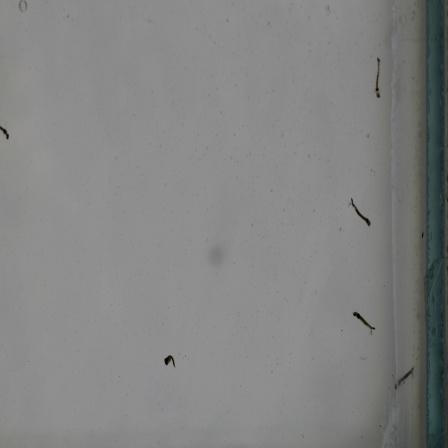Jentik-Nyamuk: (348, 193, 374, 229), (368, 54, 387, 101), (389, 361, 415, 391), (351, 309, 378, 336), (158, 351, 179, 373), (0, 115, 12, 146)
